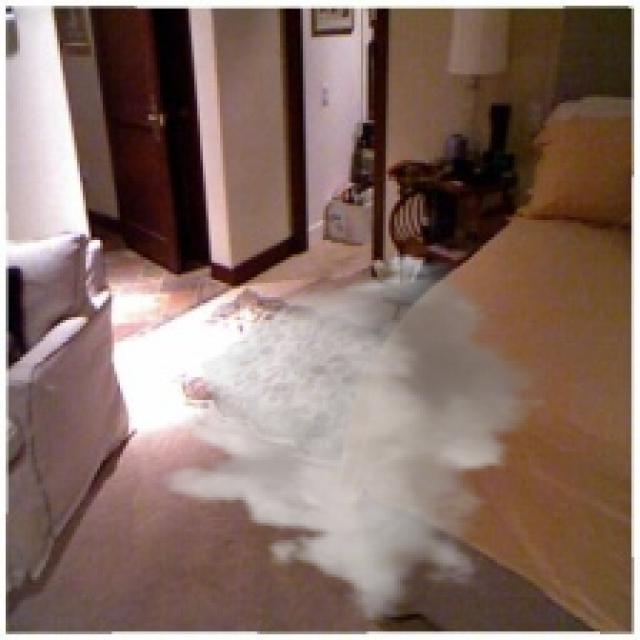smoke: (157, 248, 552, 623)
